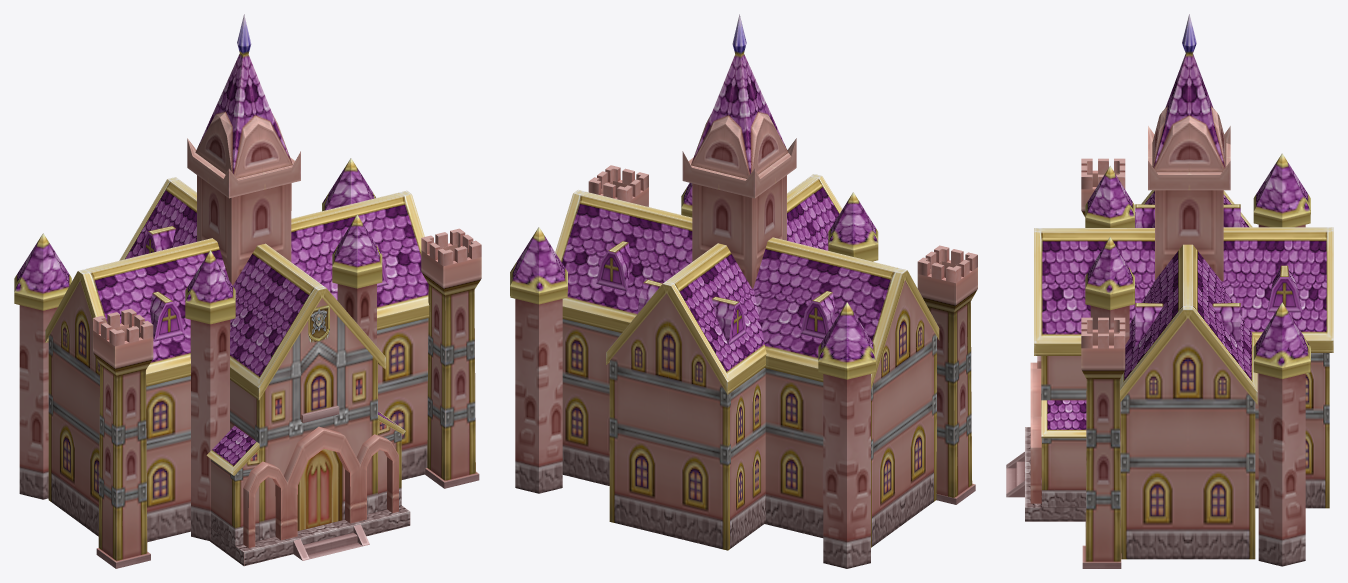
Rendered from house1.FBX.
The picture shows the model from 3 angles, left to right: view 1: azimuth 30°, elevation 25°; view 2: azimuth 150°, elevation 25°; view 3: azimuth 270°, elevation 25°; orthographic projection.
Visible parts, largest first — view 1: house_02_001_geom; view 2: house_02_001_geom; view 3: house_02_001_geom.
Boxes of the visible parts, left/top/right/bottom form: house_02_001_geom: left=14, top=14, right=481, bottom=568; house_02_001_geom: left=510, top=14, right=977, bottom=568; house_02_001_geom: left=1006, top=14, right=1333, bottom=568.
Bounding box in the file's own units: 4.13 × 5.07 × 3.22.
Materials: 1 (1 with a texture image).
